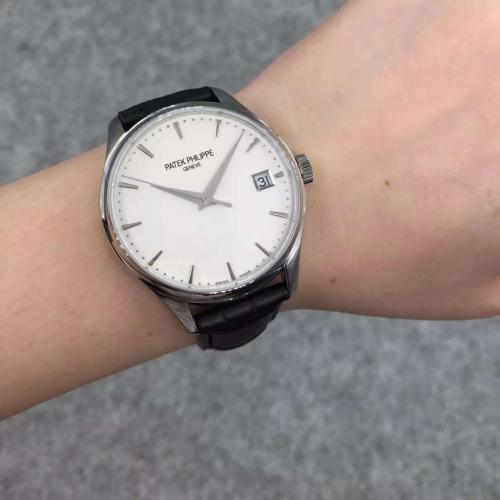watch: (95, 70, 317, 354)
